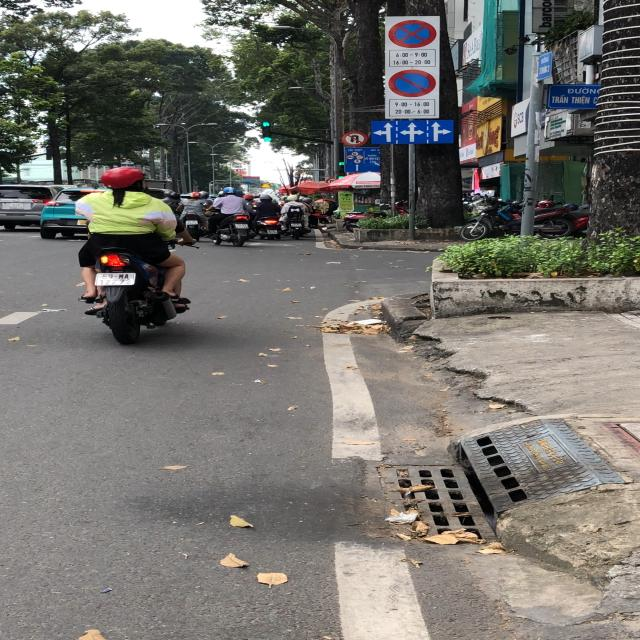Bien bao cam do xe: (385, 66, 443, 98)
Bien bao cam dung xe va do xe: (388, 18, 434, 50)
Bien bao cam quay dau xe: (340, 130, 369, 147)
